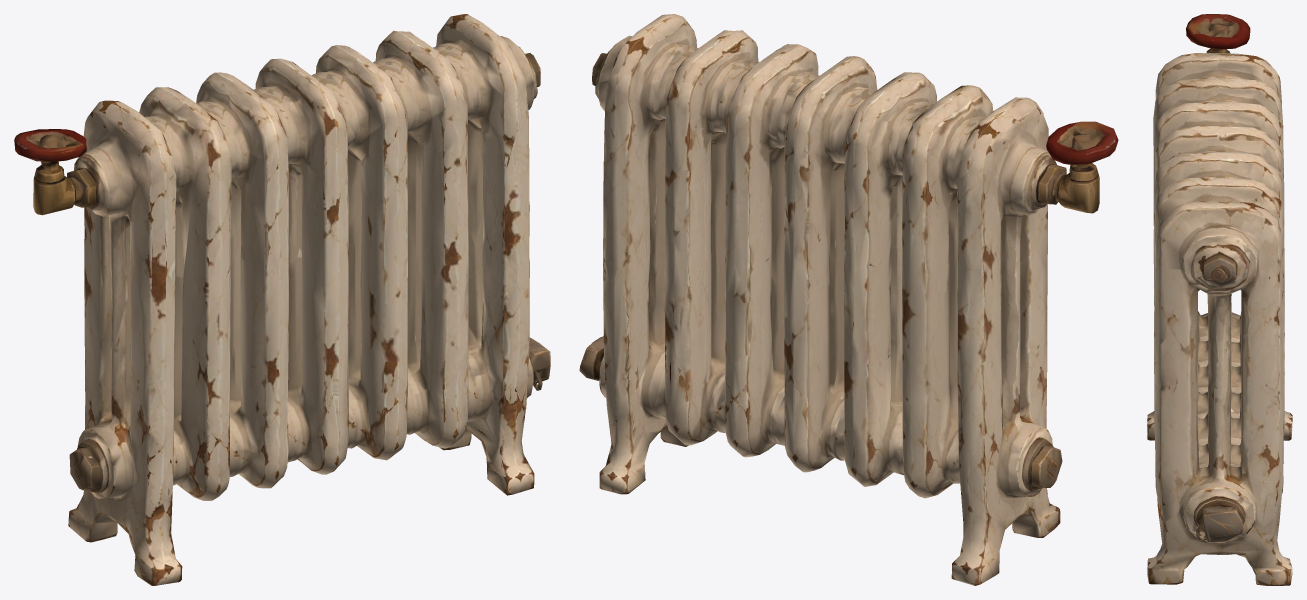
File: d_radiator.glb
The picture shows the model from 3 angles, left to right: view 1: azimuth 30°, elevation 25°; view 2: azimuth 150°, elevation 25°; view 3: azimuth 270°, elevation 25°; orthographic projection. The views are drawn at different scales.
Bounding box in the file's own units: 1.9 × 1.54 × 0.5298.
Materials: 1 (1 with a texture image).
